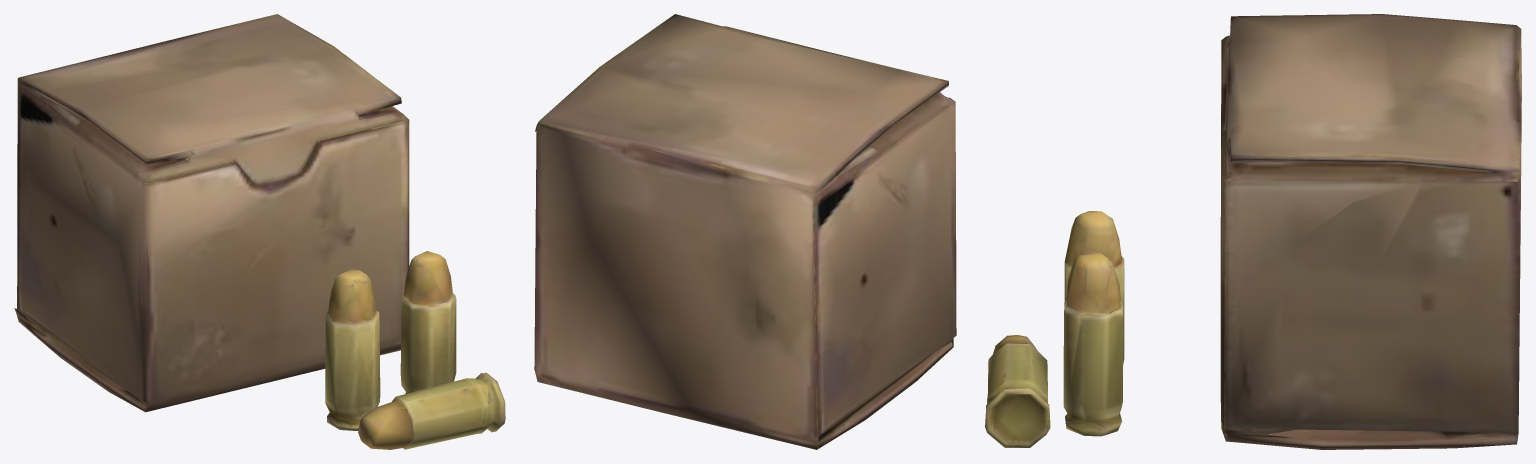
The model's file is ammo_9mm.glb.
The picture shows the model from 3 angles, left to right: view 1: azimuth 30°, elevation 25°; view 2: azimuth 150°, elevation 25°; view 3: azimuth 270°, elevation 25°; orthographic projection. The views are drawn at different scales.
Parts seen in each view (by area): view 1: Mesh1.0; view 2: Mesh1.0; view 3: Mesh1.0.
Boxes of the visible parts, x1,y1,x2,y2 form: Mesh1.0: (14, 14, 505, 449); Mesh1.0: (534, 14, 956, 449); Mesh1.0: (985, 14, 1521, 449).
Size of the model in its own units: 1.26 by 1.16 by 1.91.
Materials: 1 (1 with a texture image).
